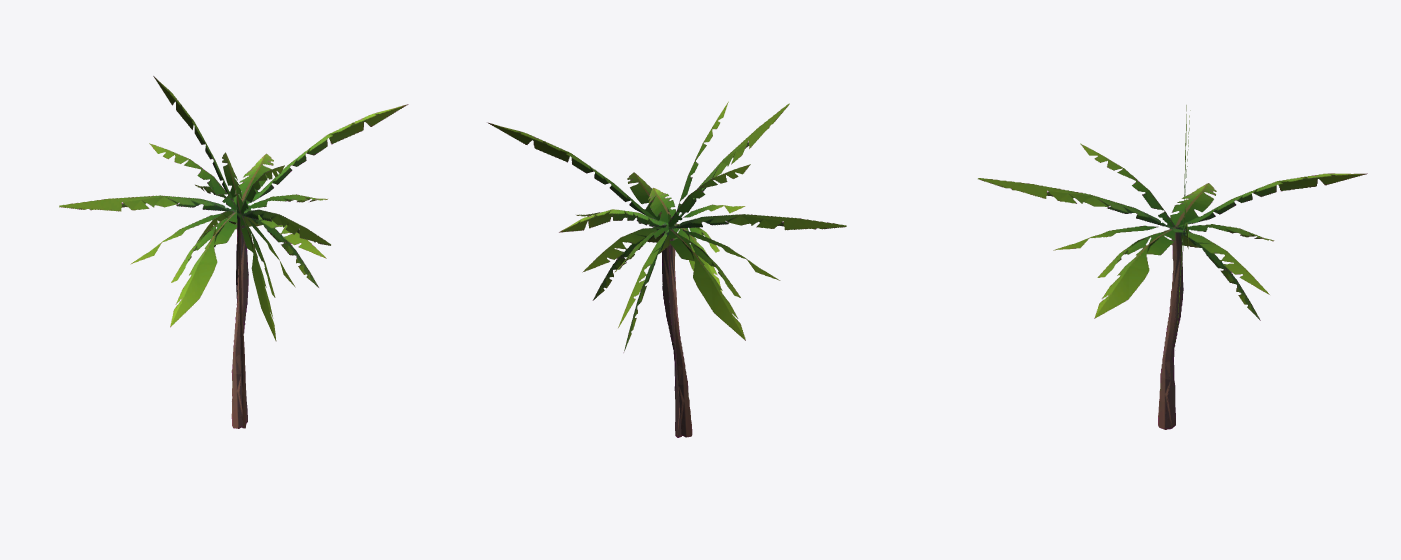
3 views of the same model, side by side, from view 1: azimuth 30°, elevation 25°; view 2: azimuth 150°, elevation 25°; view 3: azimuth 270°, elevation 25° (orthographic). The views are drawn at different scales.
Visible parts, largest first — view 1: Palm1Far; view 2: Palm1Far; view 3: Palm1Far.
Part boxes in pixels (left/top/right/bottom): Palm1Far: left=59, top=76, right=408, bottom=428; Palm1Far: left=487, top=101, right=846, bottom=437; Palm1Far: left=978, top=105, right=1367, bottom=429.
Size of the model in its own units: 730 by 600 by 728.
1 material, 1 textured.
